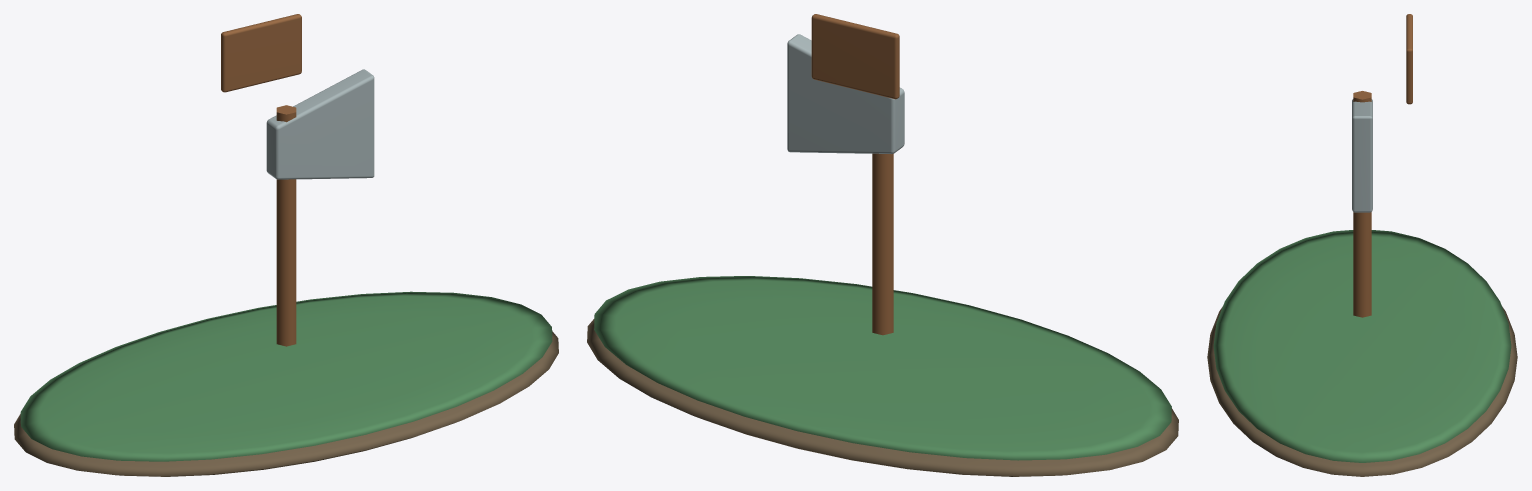
File: complete-third-hammering-tap.glb
3 renders of one model, left to right at view 1: azimuth 30°, elevation 25°; view 2: azimuth 150°, elevation 25°; view 3: azimuth 270°, elevation 25°, orthographic. The views are drawn at different scales.
Parts seen in each view (by area): view 1: complete-third-hammering-tap_surface_01, complete-third-hammering-tap_surface_03, complete-third-hammering-tap_surface_00, complete-third-hammering-tap_surface_02; view 2: complete-third-hammering-tap_surface_01, complete-third-hammering-tap_surface_00, complete-third-hammering-tap_surface_02, complete-third-hammering-tap_surface_03; view 3: complete-third-hammering-tap_surface_01, complete-third-hammering-tap_surface_00, complete-third-hammering-tap_surface_02, complete-third-hammering-tap_surface_03.
Boxes of the visible parts, <box> form: complete-third-hammering-tap_surface_01: <box>20,291,552,461</box>; complete-third-hammering-tap_surface_03: <box>266,69,374,179</box>; complete-third-hammering-tap_surface_00: <box>14,331,558,476</box>; complete-third-hammering-tap_surface_02: <box>221,14,301,346</box>; complete-third-hammering-tap_surface_01: <box>594,276,1171,460</box>; complete-third-hammering-tap_surface_00: <box>587,319,1178,476</box>; complete-third-hammering-tap_surface_02: <box>811,14,899,335</box>; complete-third-hammering-tap_surface_03: <box>787,34,904,153</box>; complete-third-hammering-tap_surface_01: <box>1213,230,1511,462</box>; complete-third-hammering-tap_surface_00: <box>1207,306,1517,476</box>; complete-third-hammering-tap_surface_02: <box>1353,14,1412,317</box>; complete-third-hammering-tap_surface_03: <box>1352,99,1372,212</box>.
Bounding box in the file's own units: 4.56 × 3.03 × 2.5.
